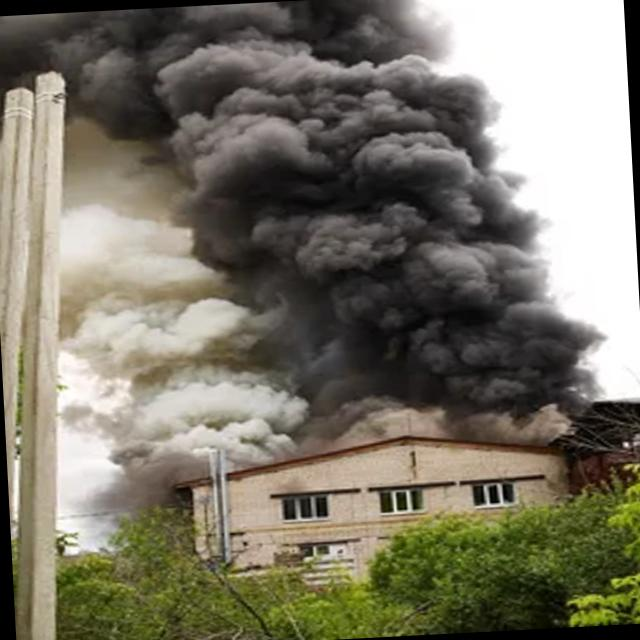Smoke: (58, 0, 640, 462)
